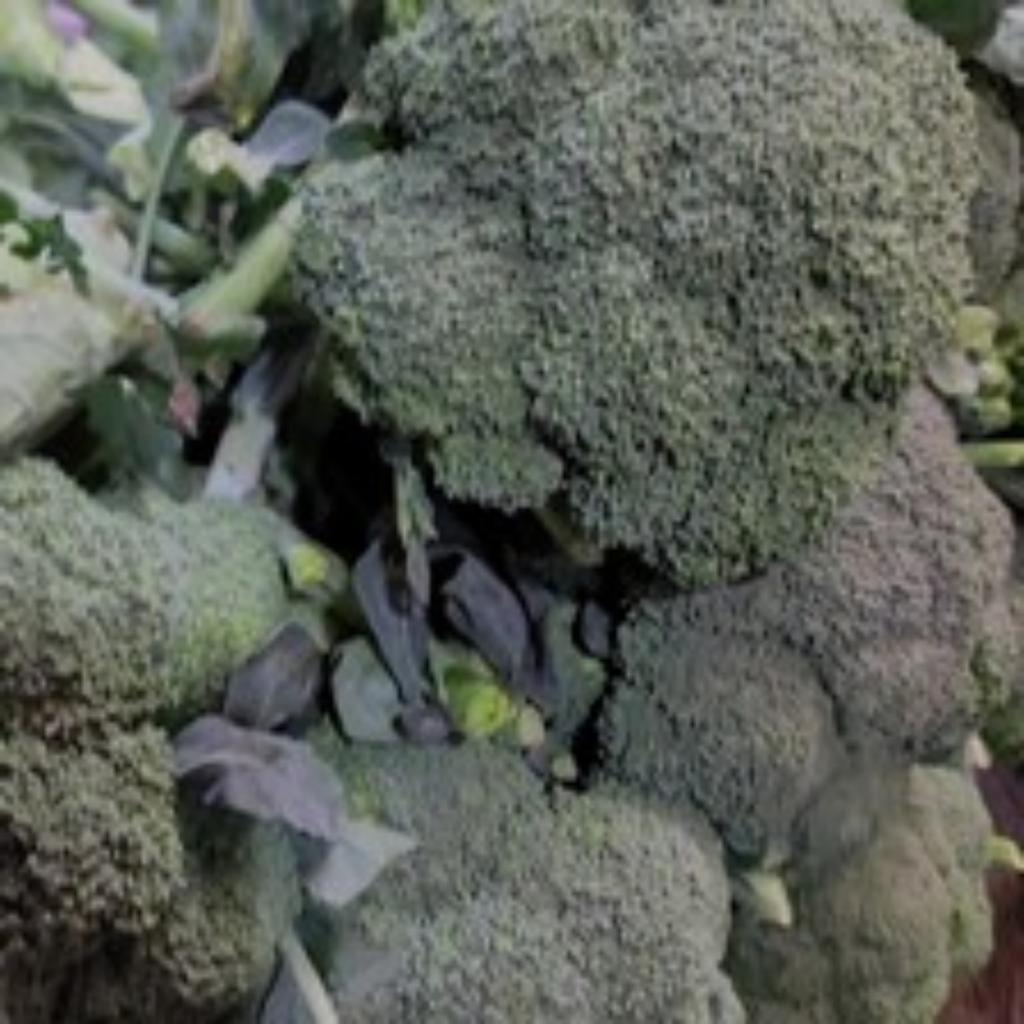Broccoli: (298, 4, 974, 585), (298, 4, 972, 585), (600, 384, 1012, 859), (600, 384, 1012, 857), (0, 458, 300, 1023), (0, 458, 296, 1023), (306, 744, 744, 1024), (306, 744, 744, 1024), (728, 764, 992, 1024), (732, 768, 992, 1024)
